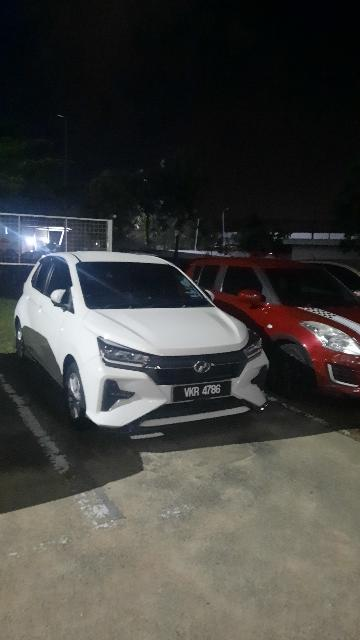License_Plate: (174, 383, 233, 404)
car: (14, 253, 275, 431), (182, 262, 360, 408)
